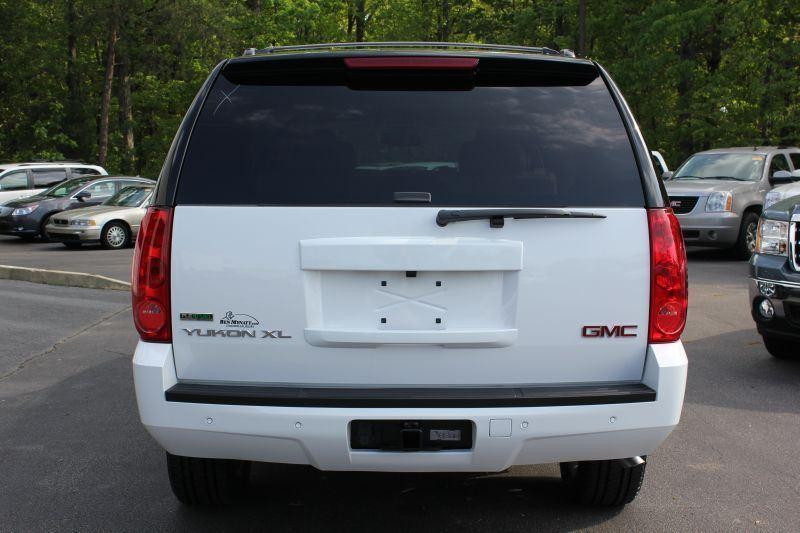GMC: (570, 316, 644, 342)
